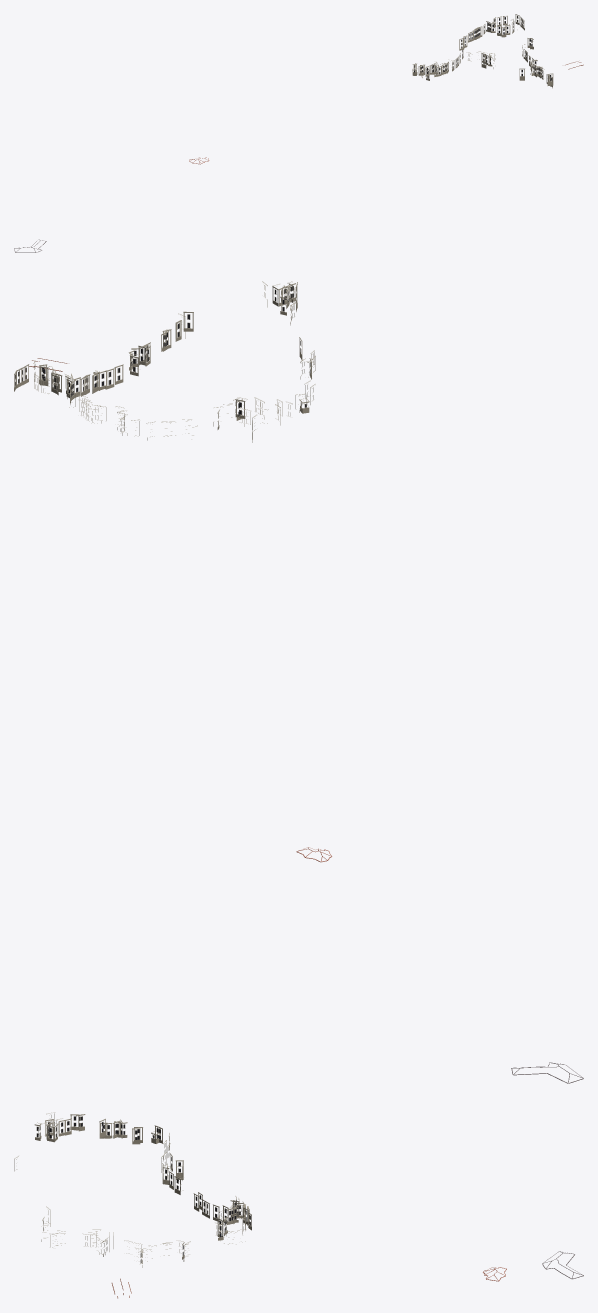
3 views of the same model, one above another, from view 1: azimuth 30°, elevation 25°; view 2: azimuth 150°, elevation 25°; view 3: azimuth 270°, elevation 25° (orthographic). The views are drawn at different scales.
Visible parts, largest first — view 1: detail; view 2: detail; view 3: detail.
Boxes of the visible parts, box(x1,y1,x2,y2) form: detail: box(14, 14, 583, 252); detail: box(14, 281, 583, 1083); detail: box(14, 1112, 583, 1298).
Bounding box in the file's own units: 482 × 253 × 339.
